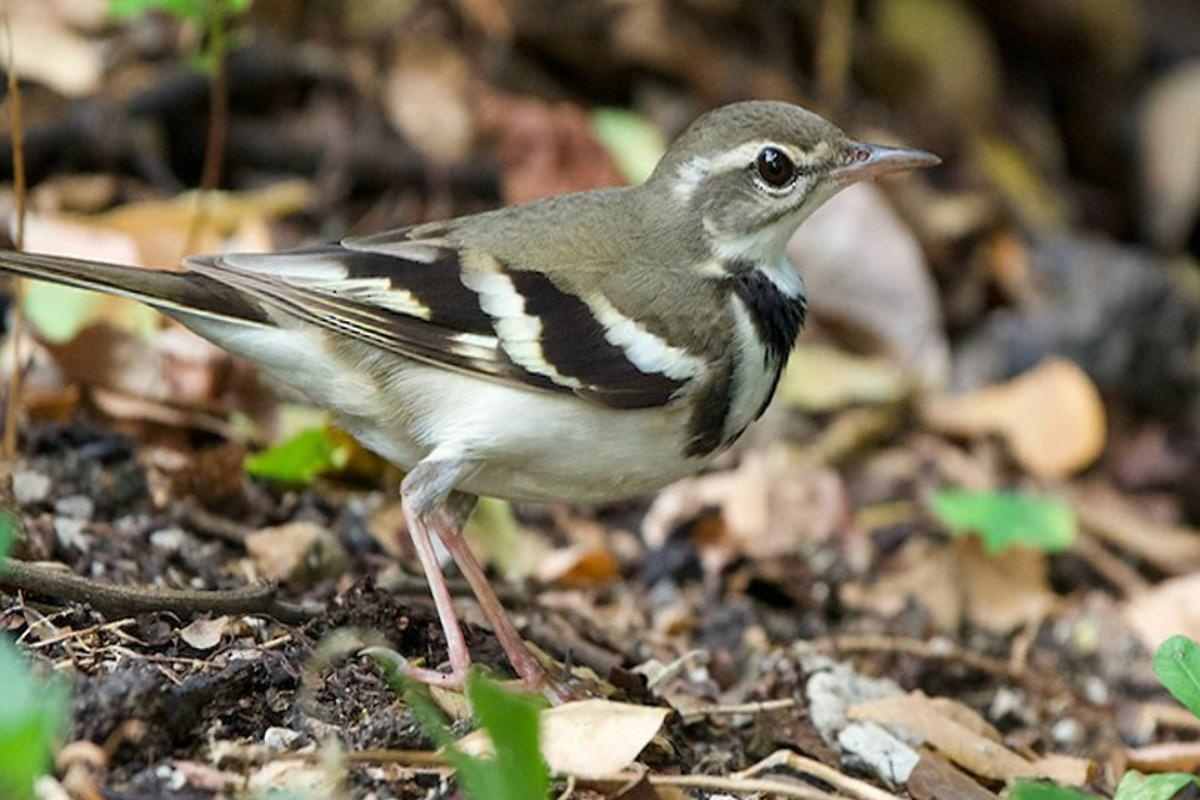wagtail: (143, 83, 1005, 564)
